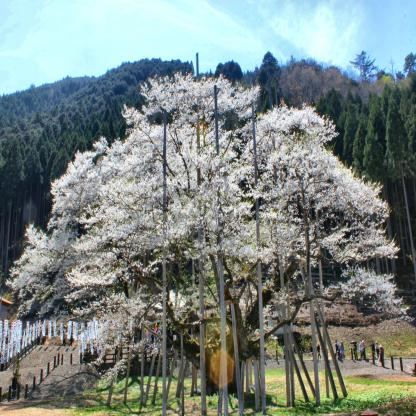EdohiganSakura: (4, 72, 416, 389)
